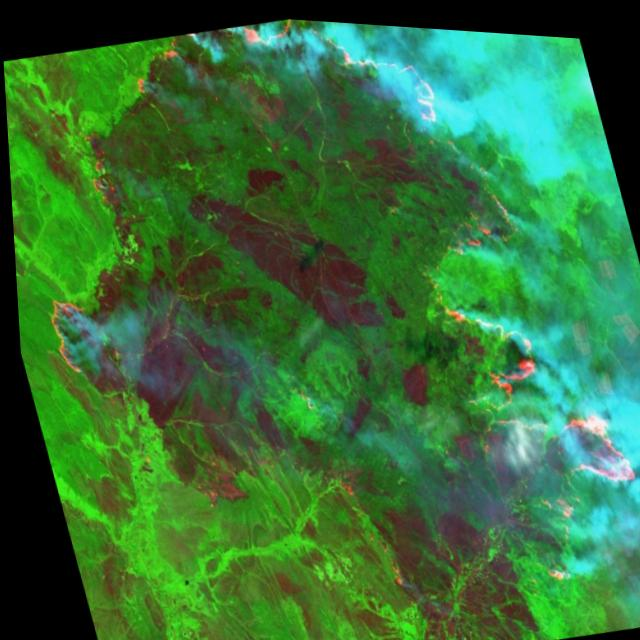fire: (436, 259, 640, 595), (118, 6, 449, 190), (28, 277, 110, 388)
